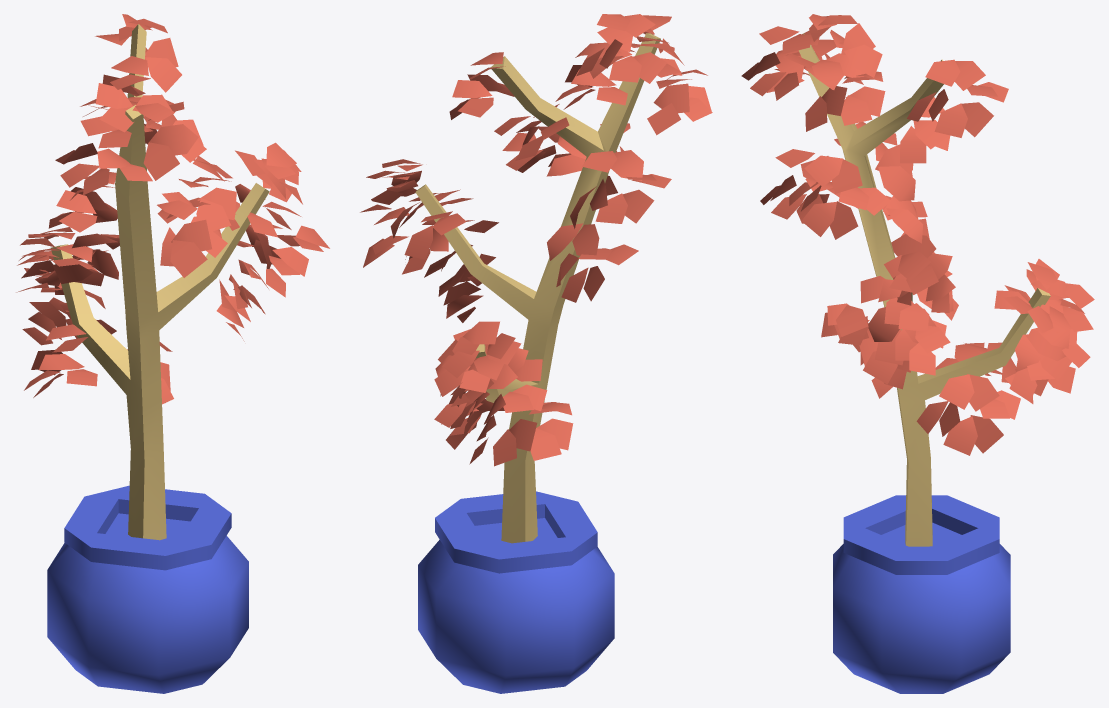
The model's file is PlantPotted.fbx.
3 renders of one model, left to right at view 1: azimuth 30°, elevation 25°; view 2: azimuth 150°, elevation 25°; view 3: azimuth 270°, elevation 25°, orthographic. The views are drawn at different scales.
Parts seen in each view (by area): view 1: Plant_Potted; view 2: Plant_Potted; view 3: Plant_Potted.
Part boxes in pixels (box(x1,y1,x2,y2)): Plant_Potted: box(16, 14, 329, 693); Plant_Potted: box(360, 14, 712, 693); Plant_Potted: box(741, 14, 1094, 693).
Bounding box in the file's own units: 106 × 220 × 114.
